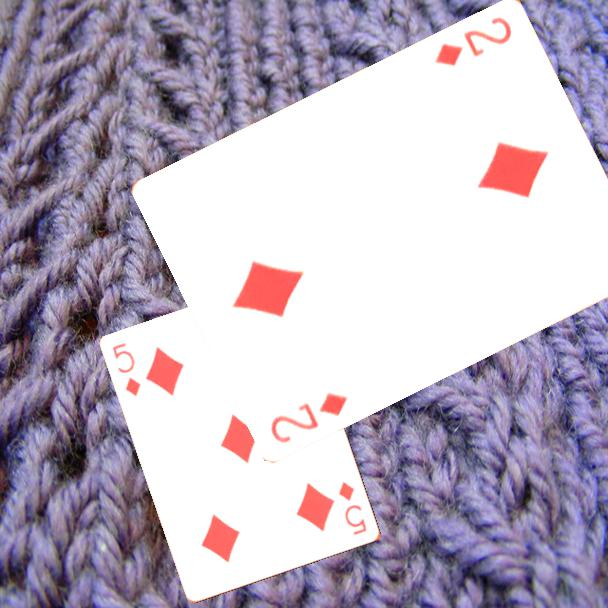d02: (267, 387, 351, 446), (431, 12, 515, 69)
d05: (109, 339, 144, 400), (335, 478, 370, 538)
